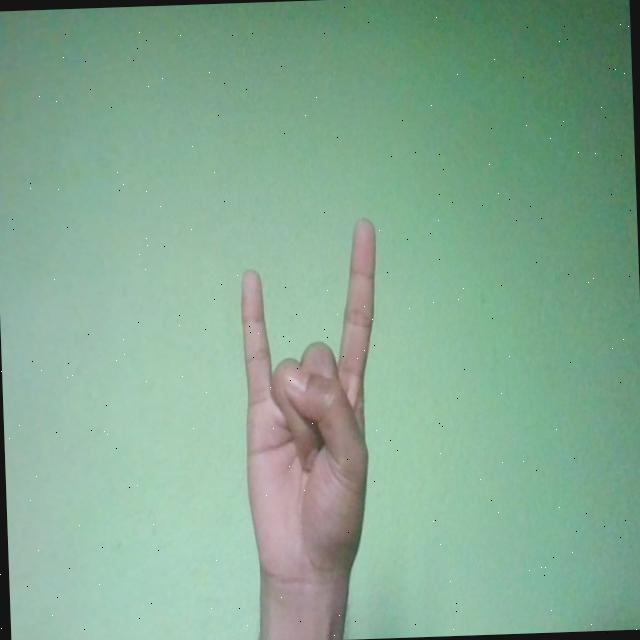open Plam: (237, 214, 390, 596)
